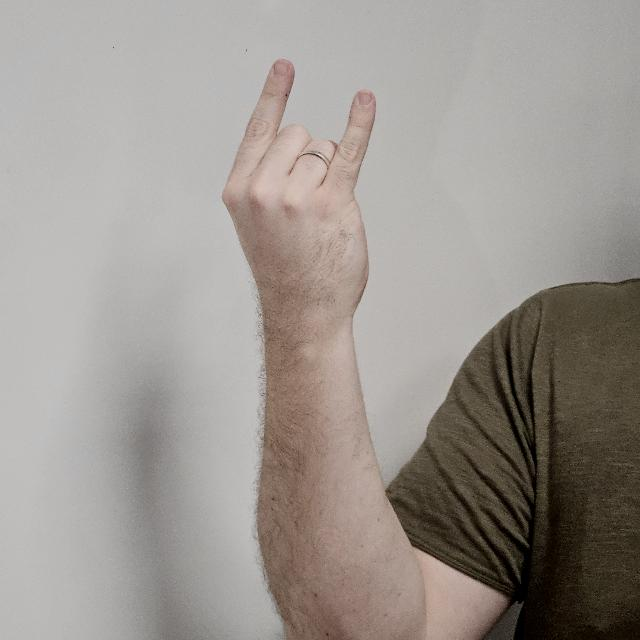L: (224, 58, 378, 346)
